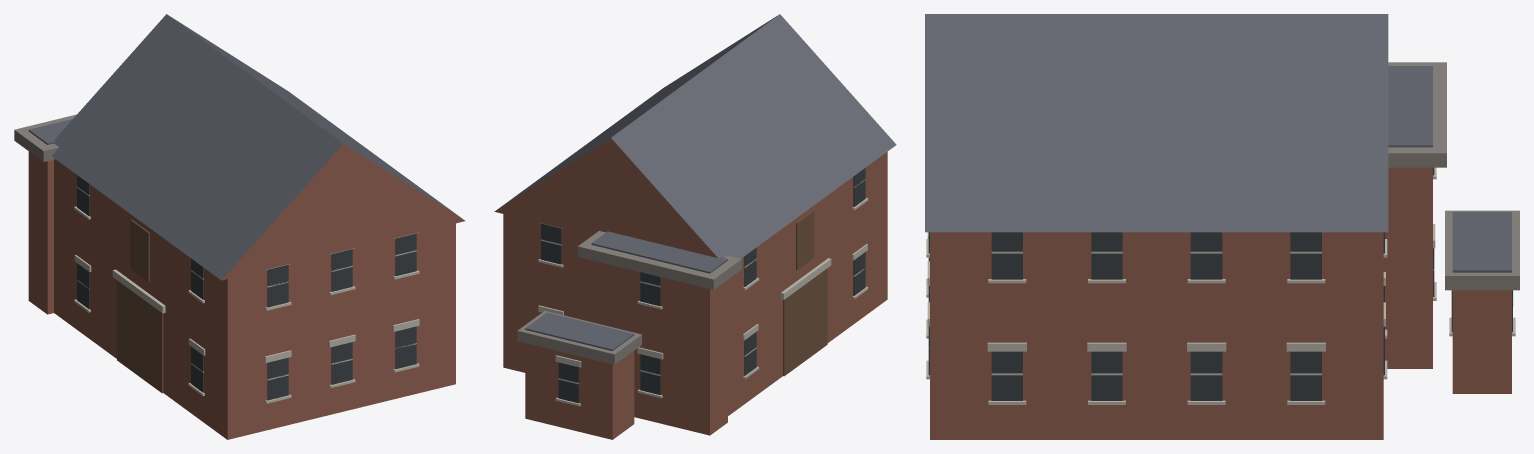
The model's file is kellogg_house_1923_prairie_coach_house__draft_1904.glb.
3 views of the same model, side by side, from view 1: azimuth 30°, elevation 25°; view 2: azimuth 150°, elevation 25°; view 3: azimuth 270°, elevation 25° (orthographic). The views are drawn at different scales.
Parts seen in each view (by area): view 1: kellogg_house_1923_prairie_coach_house__draft_1904; view 2: kellogg_house_1923_prairie_coach_house__draft_1904; view 3: kellogg_house_1923_prairie_coach_house__draft_1904.
Boxes of the visible parts, x1,y1,x2,y2 form: kellogg_house_1923_prairie_coach_house__draft_1904: (14, 14, 464, 439); kellogg_house_1923_prairie_coach_house__draft_1904: (494, 14, 896, 439); kellogg_house_1923_prairie_coach_house__draft_1904: (925, 14, 1519, 439).
Bounding box in the file's own units: 9.65 × 9.87 × 15.07.
